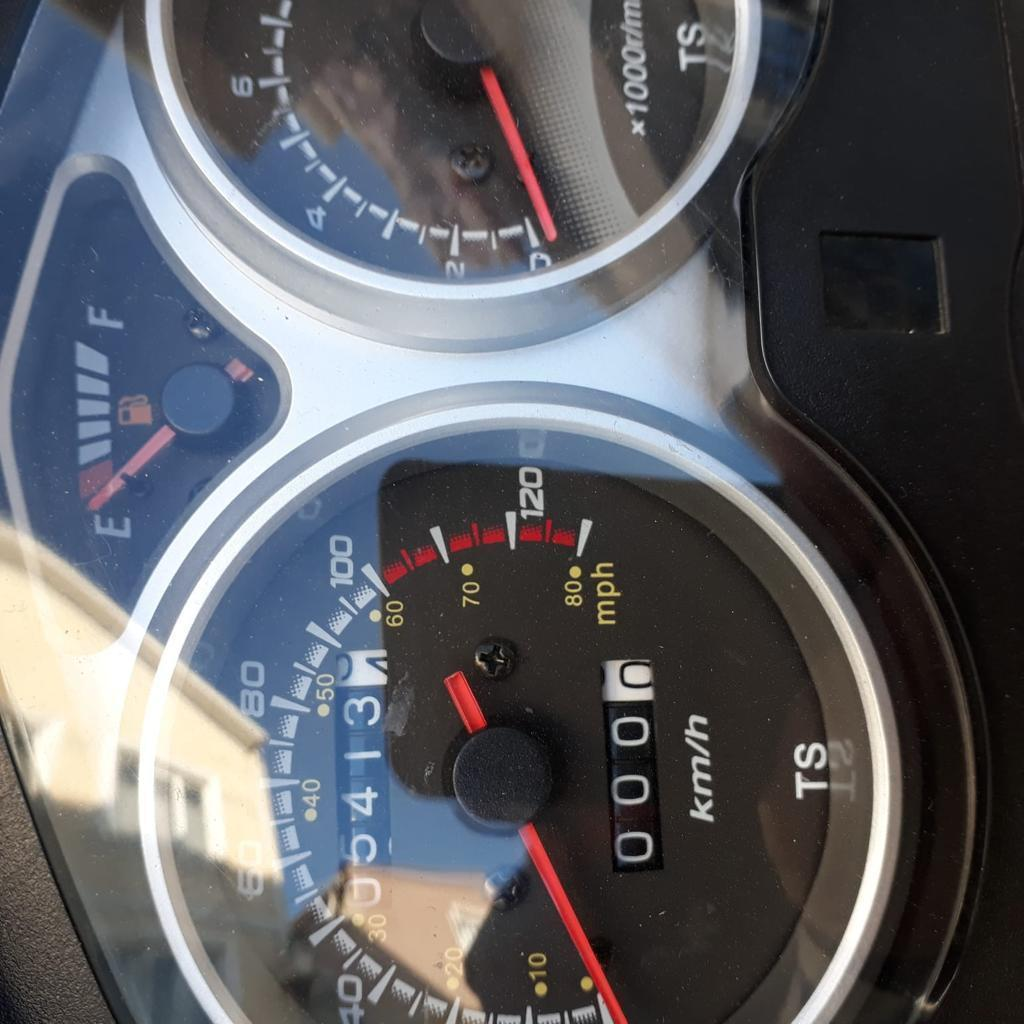0: (342, 876, 382, 908)
1: (342, 748, 382, 761)
3: (342, 694, 381, 727)
4: (340, 785, 378, 817), (364, 653, 397, 678)
5: (338, 832, 377, 865)
odometer: (333, 644, 391, 918)
